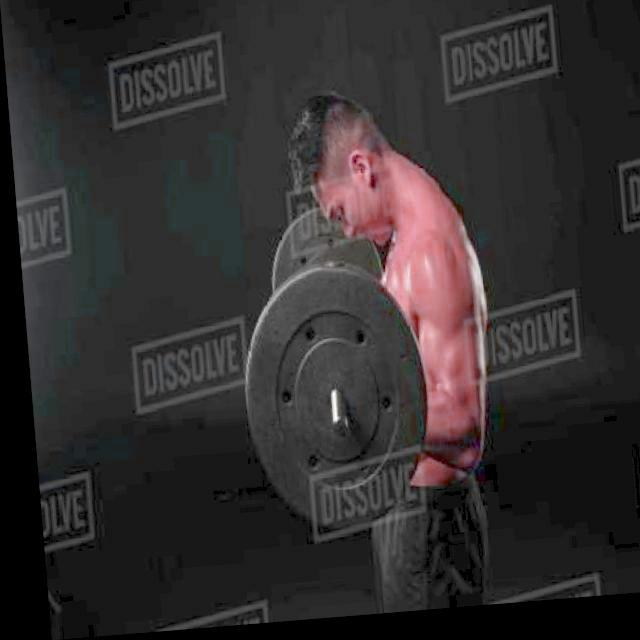barbell: (223, 262, 435, 539)
